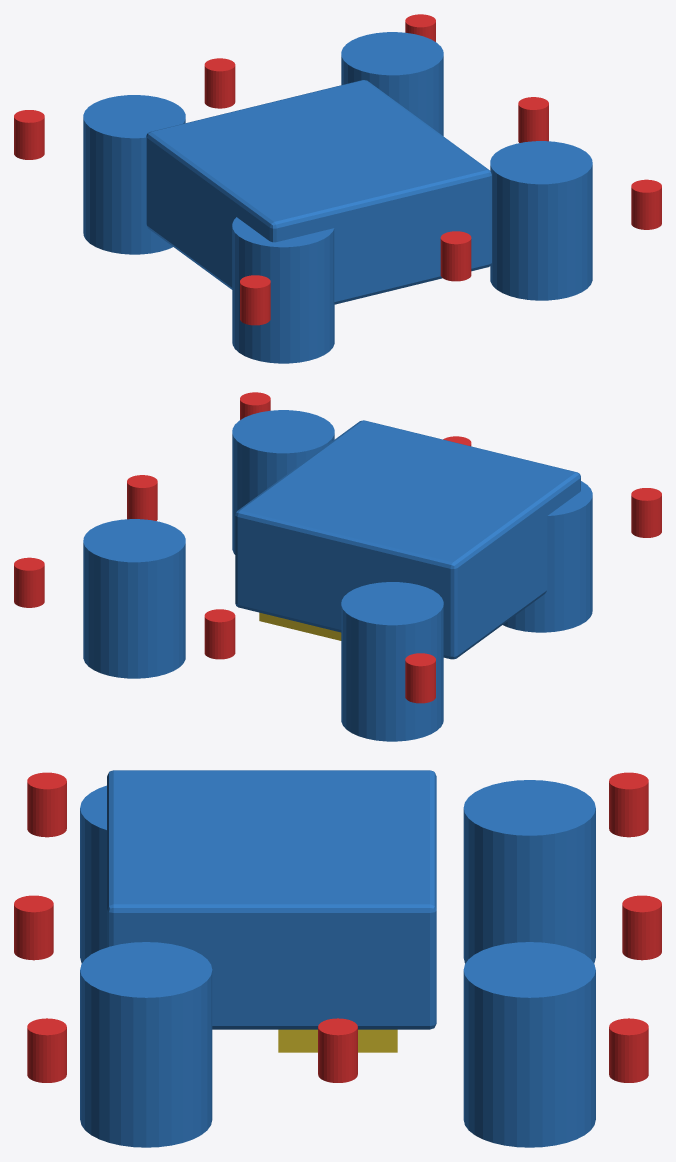
The model's file is mini_sumo_chassis.obj.
3 views of the same model, one above another, from view 1: azimuth 30°, elevation 25°; view 2: azimuth 150°, elevation 25°; view 3: azimuth 270°, elevation 25° (orthographic). The views are drawn at different scales.
Visible parts, largest first — view 1: MiniSumo_Chassis, Motor_RL_Hole, Motor_FL_Hole, Motor_FR_Hole, Motor_RR_Hole, Right_Center_Mount, Left_Center_Mount, Rear_Left_Mount, Front_Left_Mount, Rear_Right_Mount, Front_Center_Mount, Front_Right_Mount; view 2: MiniSumo_Chassis, Motor_RR_Hole, Motor_FR_Hole, Motor_FL_Hole, Motor_RL_Hole, Right_Center_Mount, Rear_Right_Mount, Front_Right_Mount, Rear_Left_Mount, Front_Center_Mount, Battery_Position_CoG, Front_Left_Mount; view 3: MiniSumo_Chassis, Motor_RL_Hole, Motor_RR_Hole, Motor_FR_Hole, Motor_FL_Hole, Rear_Left_Mount, Rear_Right_Mount, Front_Center_Mount, Front_Left_Mount, Front_Right_Mount, Left_Center_Mount, Right_Center_Mount (+1 smaller).
Boxes of the visible parts, x1,y1,x2,y2 form: MiniSumo_Chassis: (146,80,491,304); Motor_RL_Hole: (490,141,592,300); Motor_FL_Hole: (232,217,334,363); Motor_FR_Hole: (83,95,185,254); Motor_RR_Hole: (341,32,443,135); Right_Center_Mount: (204,58,235,108); Left_Center_Mount: (440,231,471,281); Rear_Left_Mount: (240,275,270,325); Front_Left_Mount: (631,179,661,229); Rear_Right_Mount: (14,110,44,159); Front_Center_Mount: (518,97,548,142); Front_Right_Mount: (405,14,435,41); MiniSumo_Chassis: (235,420,580,659); Motor_RR_Hole: (83,519,185,678); Motor_FR_Hole: (341,582,443,741); Motor_FL_Hole: (503,481,592,632); Motor_RL_Hole: (232,410,334,554); Right_Center_Mount: (204,609,235,659); Rear_Right_Mount: (405,653,435,703); Front_Right_Mount: (14,557,44,607); Rear_Left_Mount: (631,488,661,537); Front_Center_Mount: (127,475,157,520); Battery_Position_CoG: (259,612,341,640); Front_Left_Mount: (240,392,270,419); MiniSumo_Chassis: (107,770,436,1029); Motor_RL_Hole: (80,942,212,1147); Motor_RR_Hole: (463,942,595,1147); Motor_FR_Hole: (463,780,595,963); Motor_FL_Hole: (80,785,106,963); Rear_Left_Mount: (27,772,66,837); Rear_Right_Mount: (609,772,648,837); Front_Center_Mount: (318,1018,357,1082); Front_Left_Mount: (27,1018,66,1082); Front_Right_Mount: (609,1018,648,1082); Left_Center_Mount: (14,895,53,960); Right_Center_Mount: (622,895,661,960).
Bounding box in the file's own units: 9.4 × 2.89 × 9.8.
